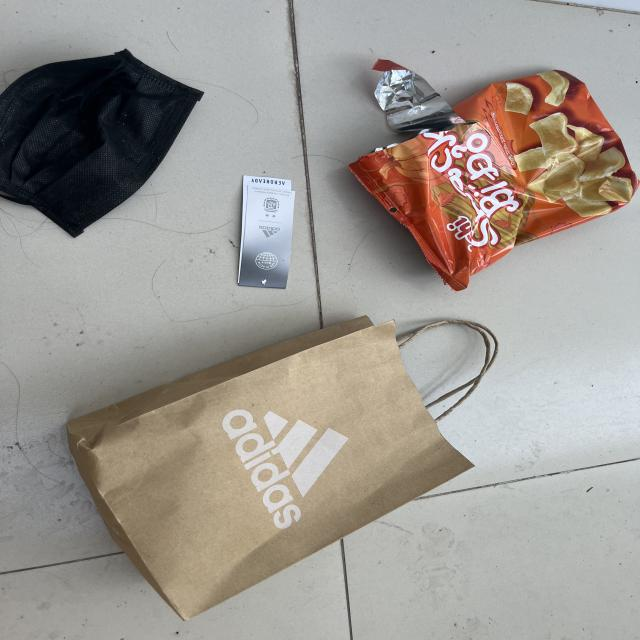bag: (67, 317, 500, 622)
mask: (0, 47, 206, 240)
paper: (238, 174, 296, 291)
snack package: (347, 58, 640, 292)
